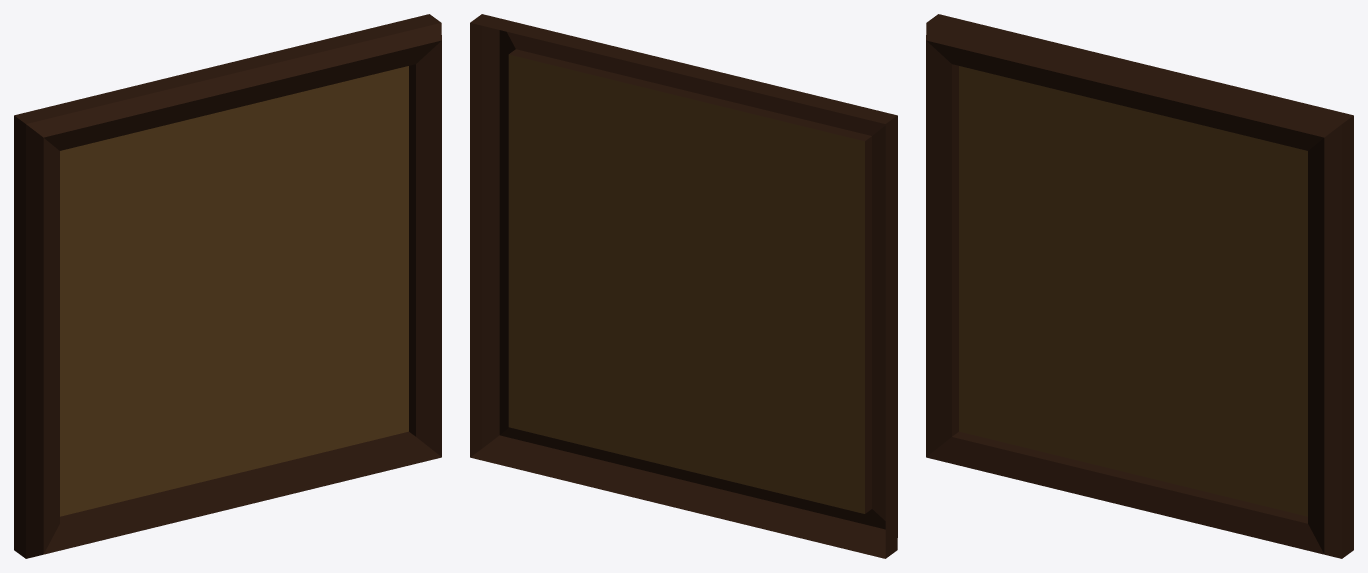
File: SM_Frame_02.fbx
The picture shows the model from 3 angles, left to right: view 1: azimuth 30°, elevation 25°; view 2: azimuth 150°, elevation 25°; view 3: azimuth 330°, elevation 25°; orthographic projection.
Visible parts, largest first — view 1: SM_Frame_02; view 2: SM_Frame_02; view 3: SM_Frame_02.
Part boxes in pixels (bbox=[...]): SM_Frame_02: bbox=[14, 14, 441, 558]; SM_Frame_02: bbox=[470, 14, 897, 558]; SM_Frame_02: bbox=[926, 14, 1353, 558].
Size of the model in its own units: 39.37 by 39.37 by 3.45.
